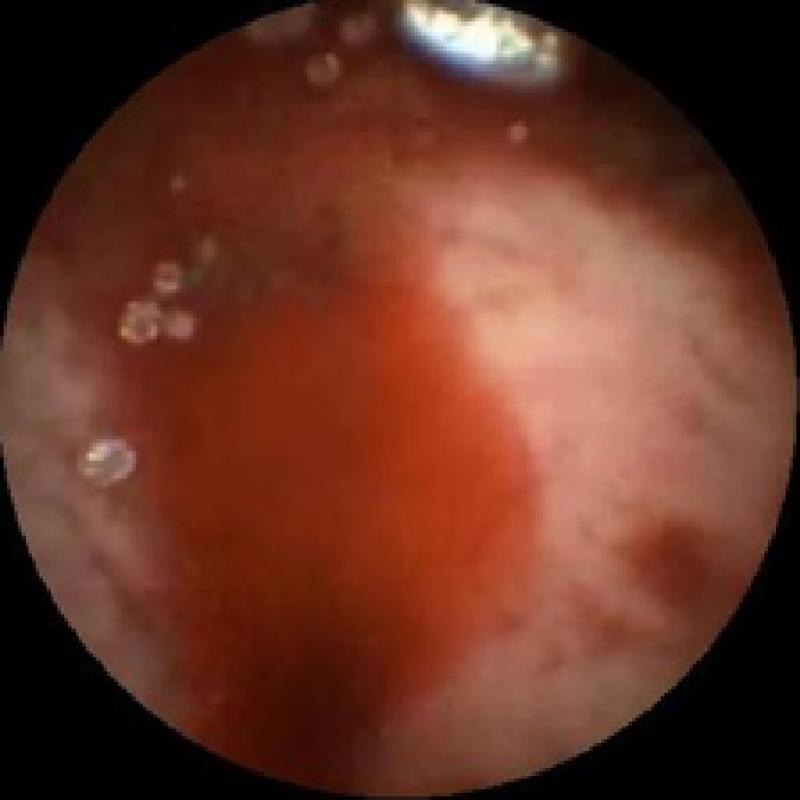bleeding: (143, 29, 675, 750)
